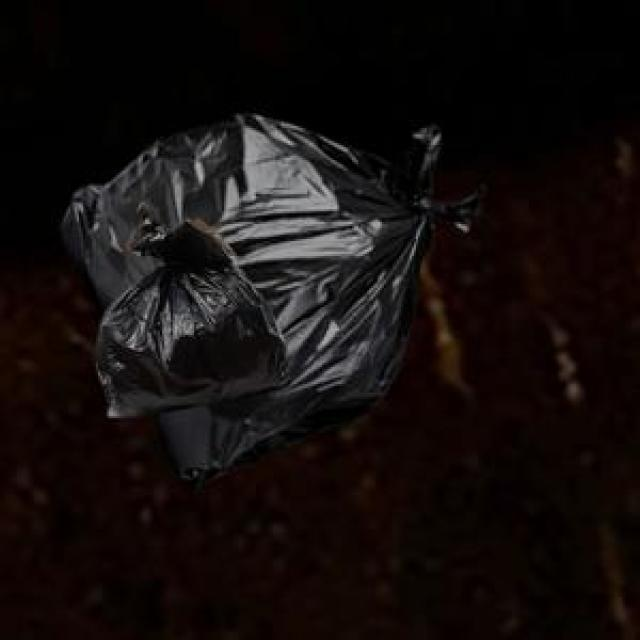garbage_bag: (53, 105, 479, 485)
